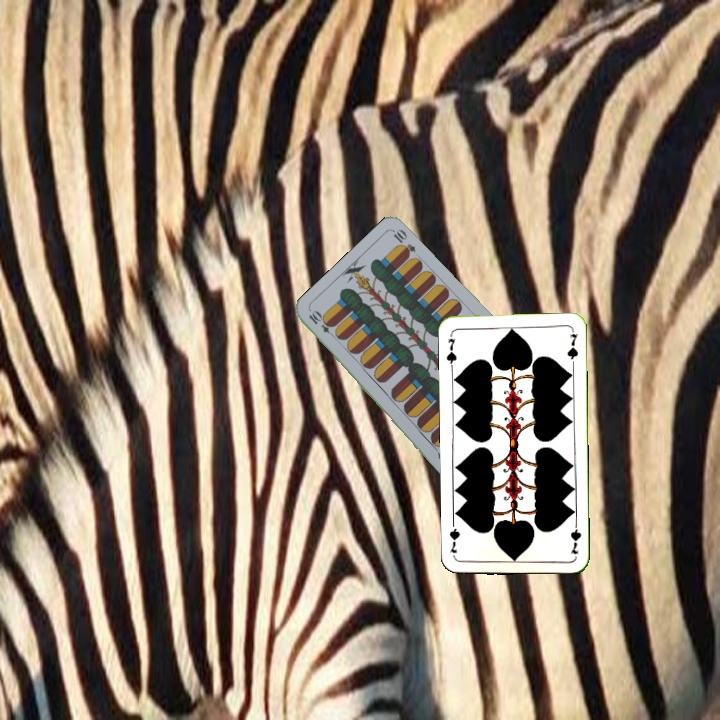E10: (305, 307, 339, 341)
G7: (566, 516, 583, 557), (442, 335, 459, 370)
